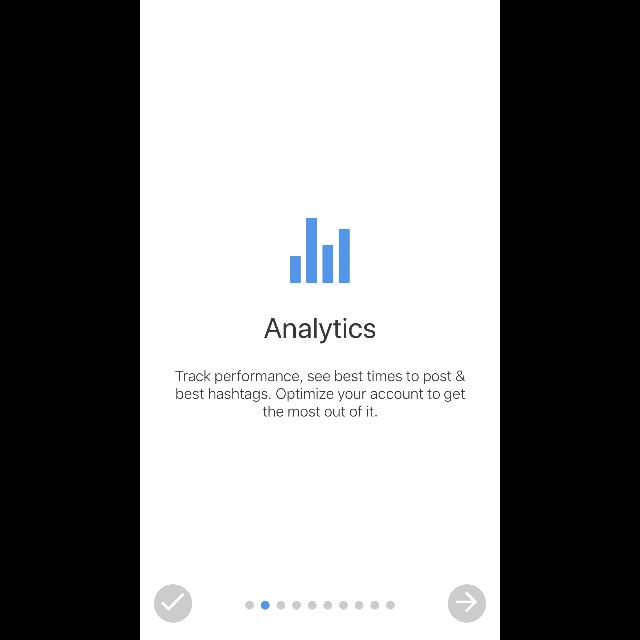icon: (290, 218, 350, 284), (448, 584, 486, 622), (154, 584, 192, 622)
pageindicator: (246, 601, 394, 609)
text: (176, 370, 464, 416), (264, 318, 376, 344)
